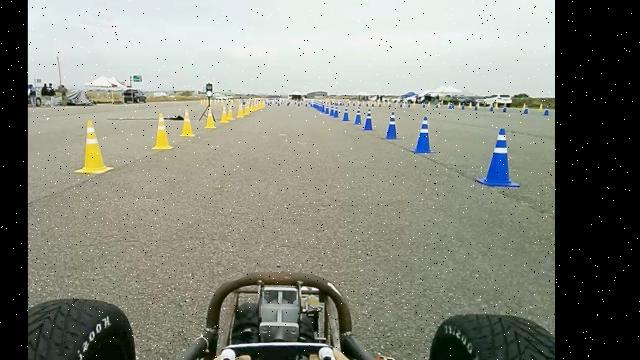blue cone: (476, 127, 522, 188), (411, 115, 436, 154), (384, 110, 402, 140), (363, 108, 374, 131), (353, 106, 362, 125), (342, 107, 350, 122)
yellow cone: (74, 119, 114, 175), (151, 112, 174, 150), (180, 109, 195, 137), (204, 106, 217, 129), (219, 105, 230, 124), (236, 104, 245, 118), (227, 105, 235, 120)
